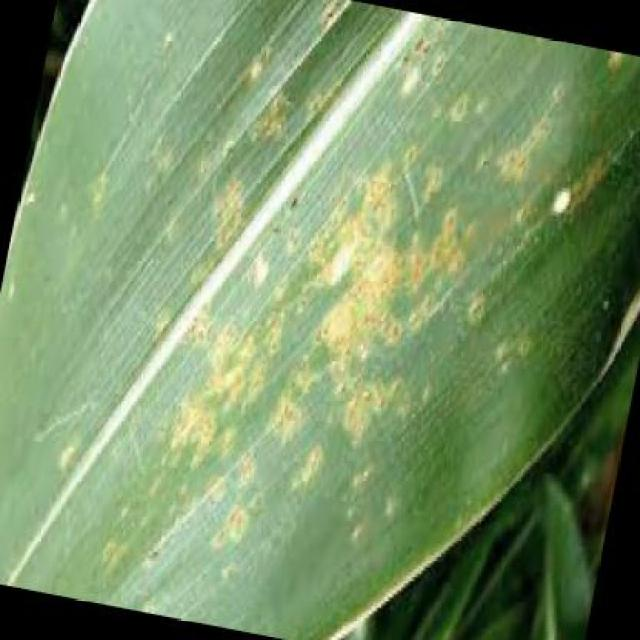Corn_Rust: (83, 39, 546, 596)
